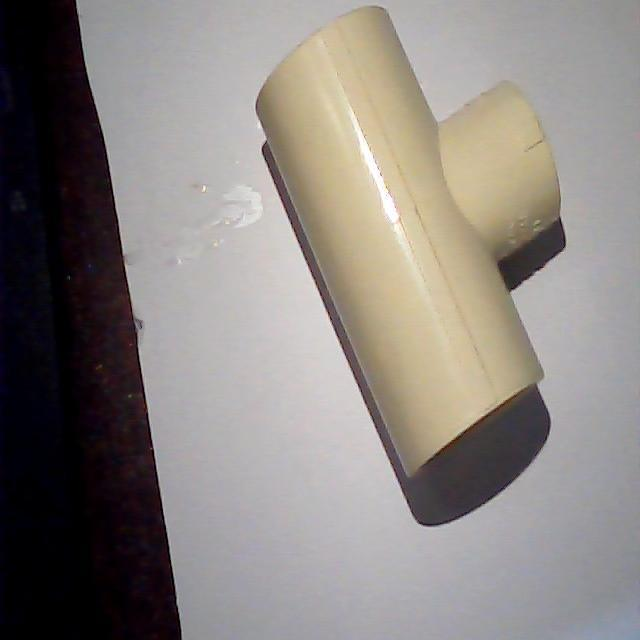T Joint: (254, 6, 566, 530)
